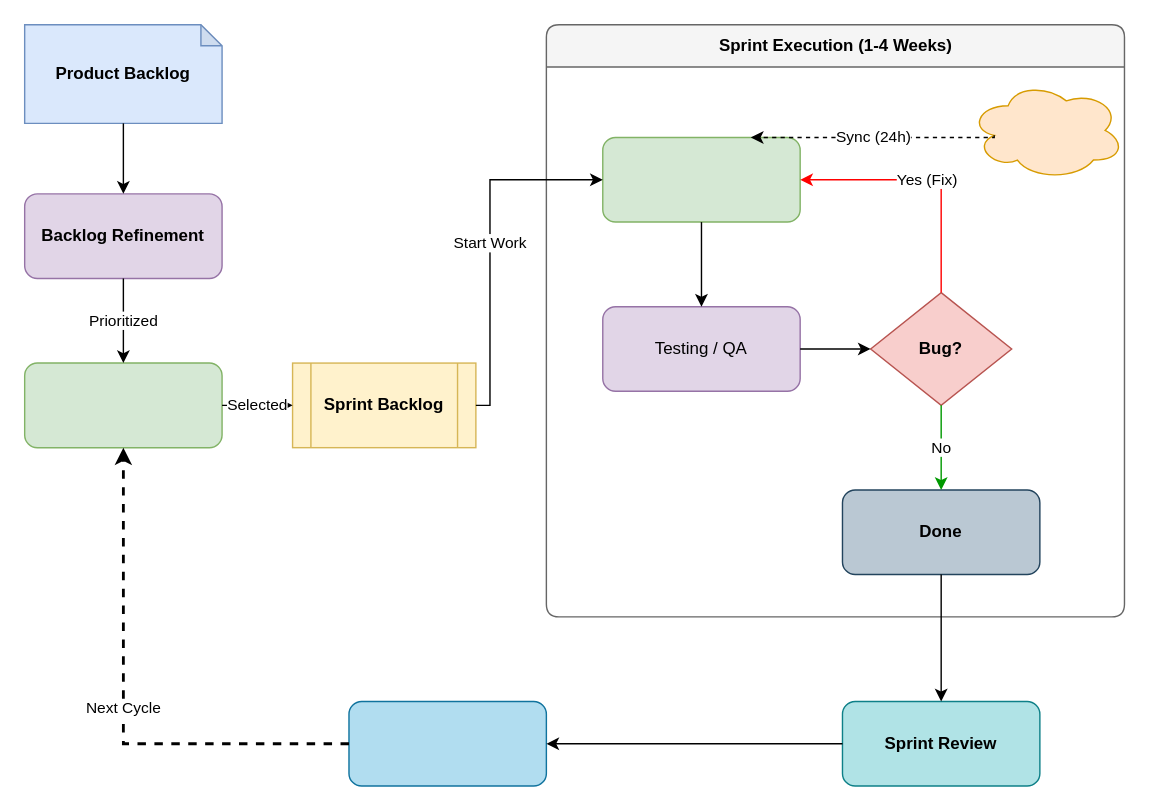
Image size: 1149x811. Some labels were removed from this diagram. The centre of each missing label's shape, as x and y in pixels:
"Daily Standup" belongs at point 1046,130.
"Development" belongs at point 700,179.
"Sprint Planning" belongs at point 122,405.
"Sprint Retrospective" belongs at point 447,743.
